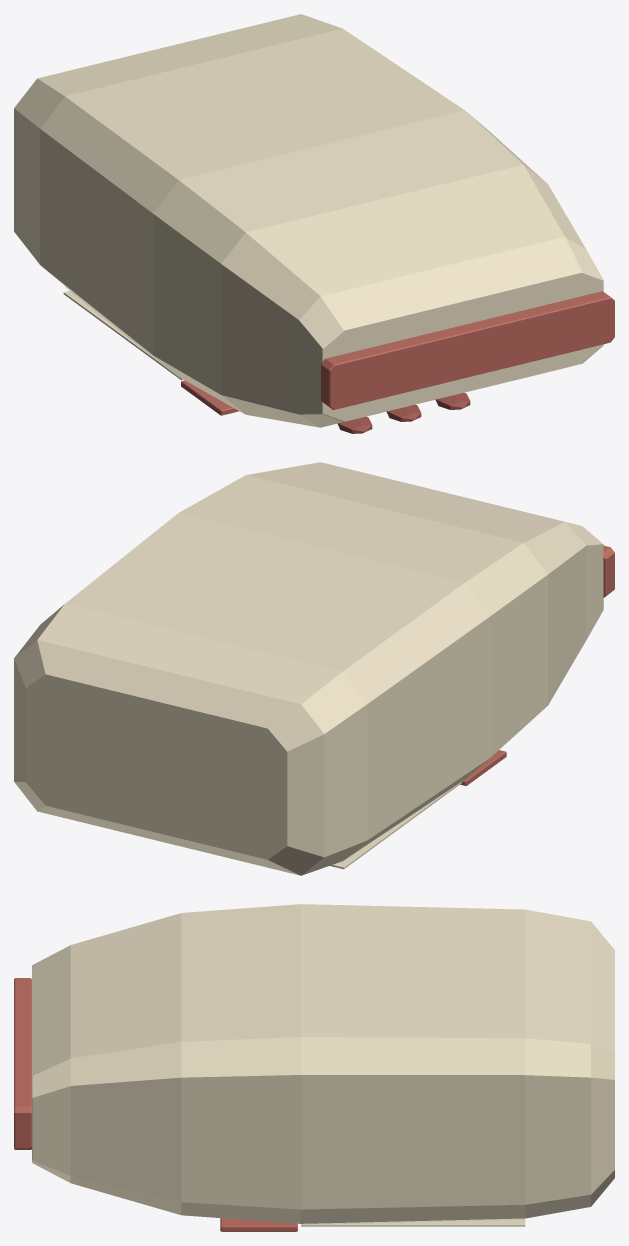
Rendered from red_kidney_beans.glb.
3 renders of one model, top to bottom at view 1: azimuth 30°, elevation 25°; view 2: azimuth 150°, elevation 25°; view 3: azimuth 270°, elevation 25°, orthographic. The views are drawn at different scales.
Parts seen in each view (by area): view 1: red_kidney_beans; view 2: red_kidney_beans; view 3: red_kidney_beans.
Part boxes in pixels (left/top/right/bottom): red_kidney_beans: left=14, top=14, right=614, bottom=433; red_kidney_beans: left=14, top=462, right=614, bottom=875; red_kidney_beans: left=14, top=904, right=614, bottom=1231.
Bounding box in the file's own units: 0.1236 × 0.0746 × 0.201.
